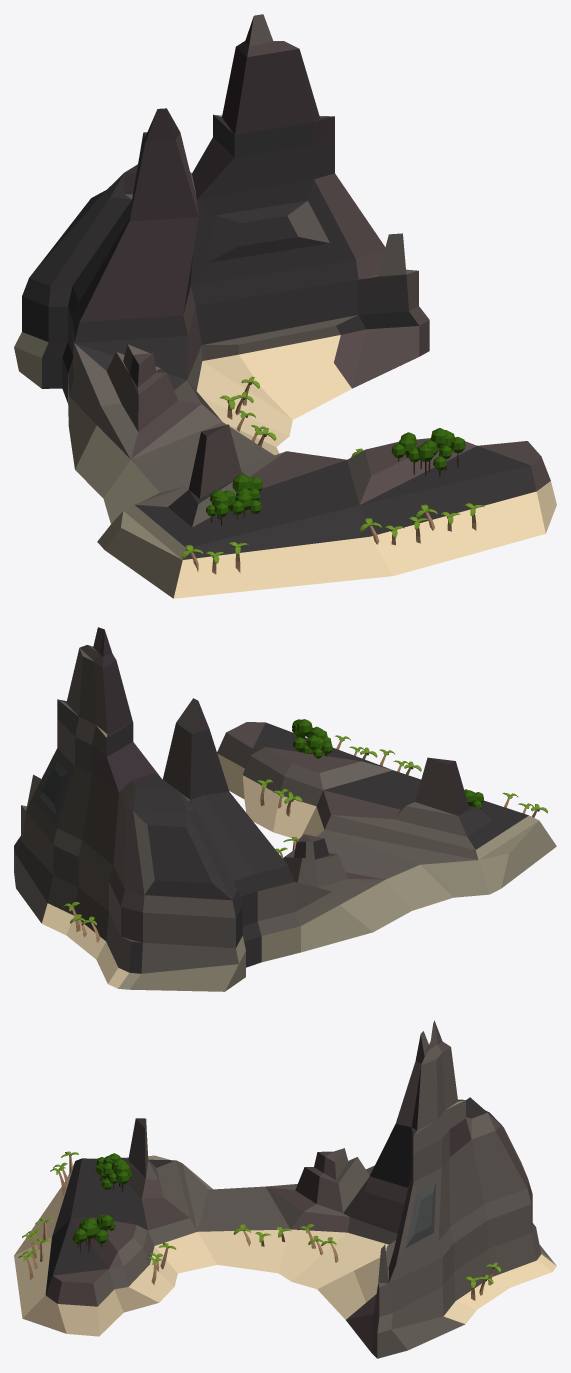
Rendered from Island 1.fbx.
3 renders of one model, top to bottom at view 1: azimuth 30°, elevation 25°; view 2: azimuth 150°, elevation 25°; view 3: azimuth 270°, elevation 25°, orthographic. The views are drawn at different scales.
Visible parts, largest first — view 1: Rock 1; view 2: Rock 1; view 3: Rock 1.
Boxes of the visible parts, x1=… form: Rock 1: x1=14, y1=14, x2=556, y2=598; Rock 1: x1=14, y1=627, x2=556, y2=991; Rock 1: x1=14, y1=1020, x2=556, y2=1358.
Bounding box in the file's own units: 4101 × 3018 × 5251.
